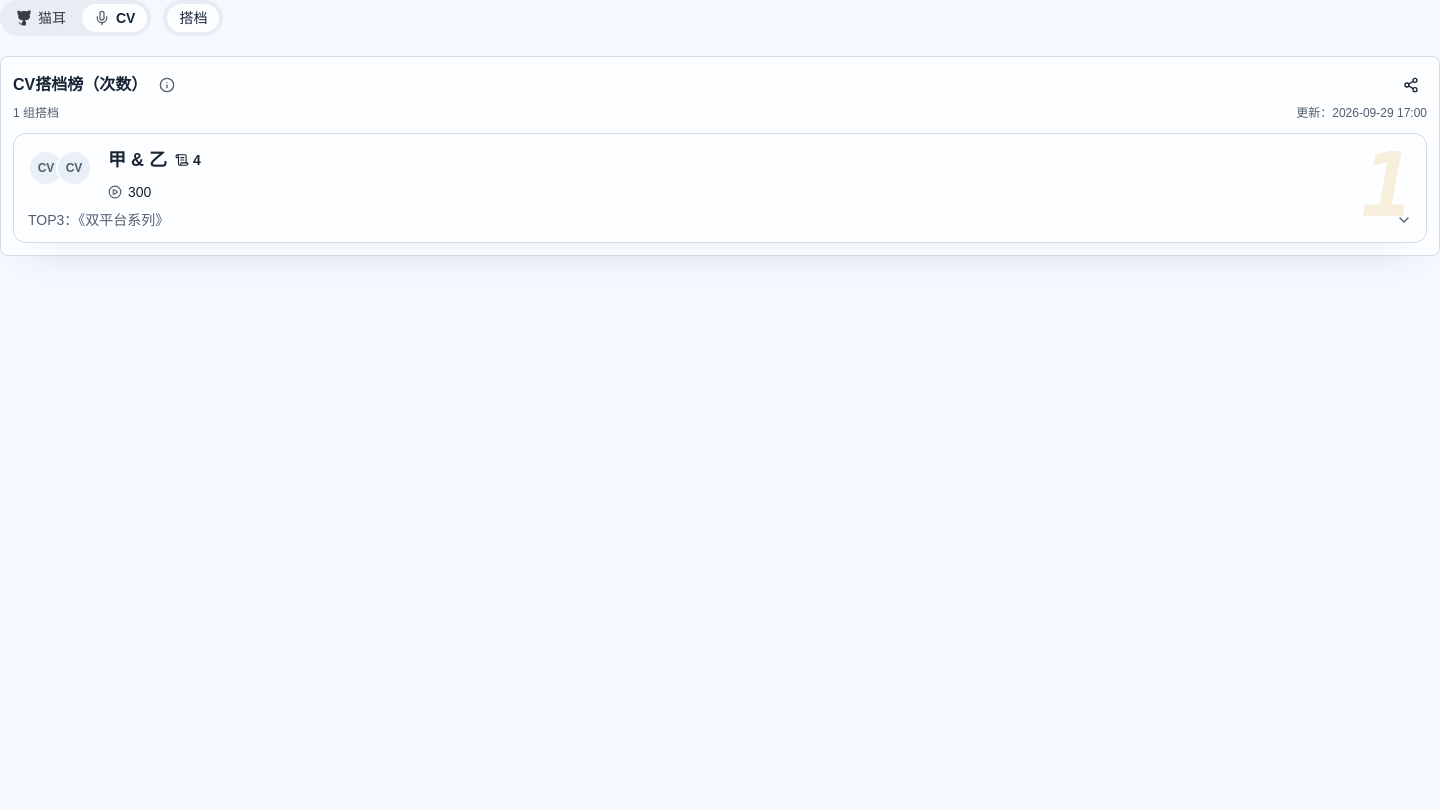
Test case: partner details keep platform identity when two releases share a drama ID
The image size is (1440, 810).
Expected: the heading "甲 & 乙" is shown, [108,146,167,174]
Expected: the element named "合作系列数: 4" reads "4", [175,150,201,170]
What coordinates should you click on to do the following:
click the button with aria-label "展开甲 & 乙作品列表"
I would click on:
 (99, 220)
Its box is [28,210,1412,230].
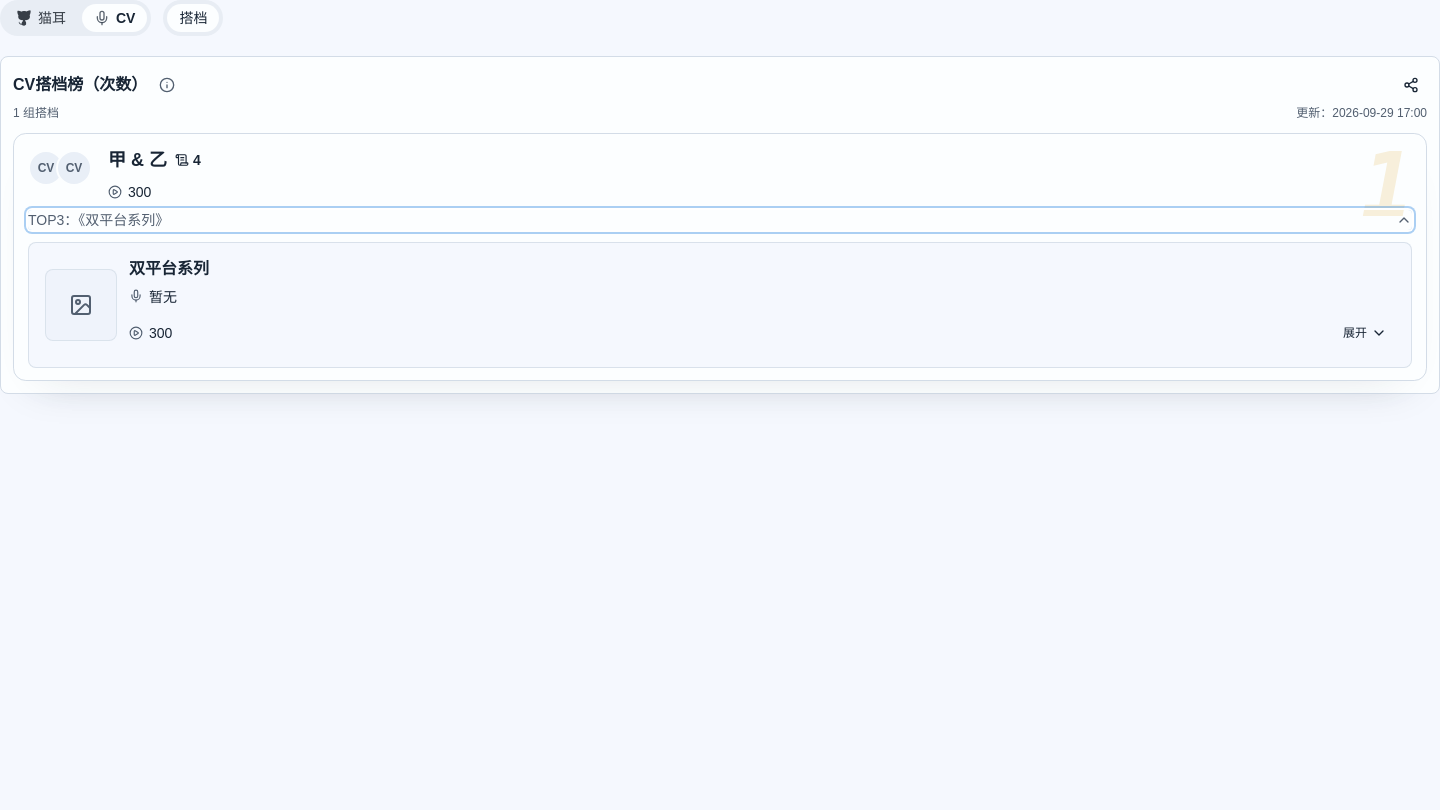
What coordinates should you click on to do the following:
click the button with aria-label "展开系列双平台系列"
I would click on:
 (1365, 333)
Its box is [1335,315,1395,351].
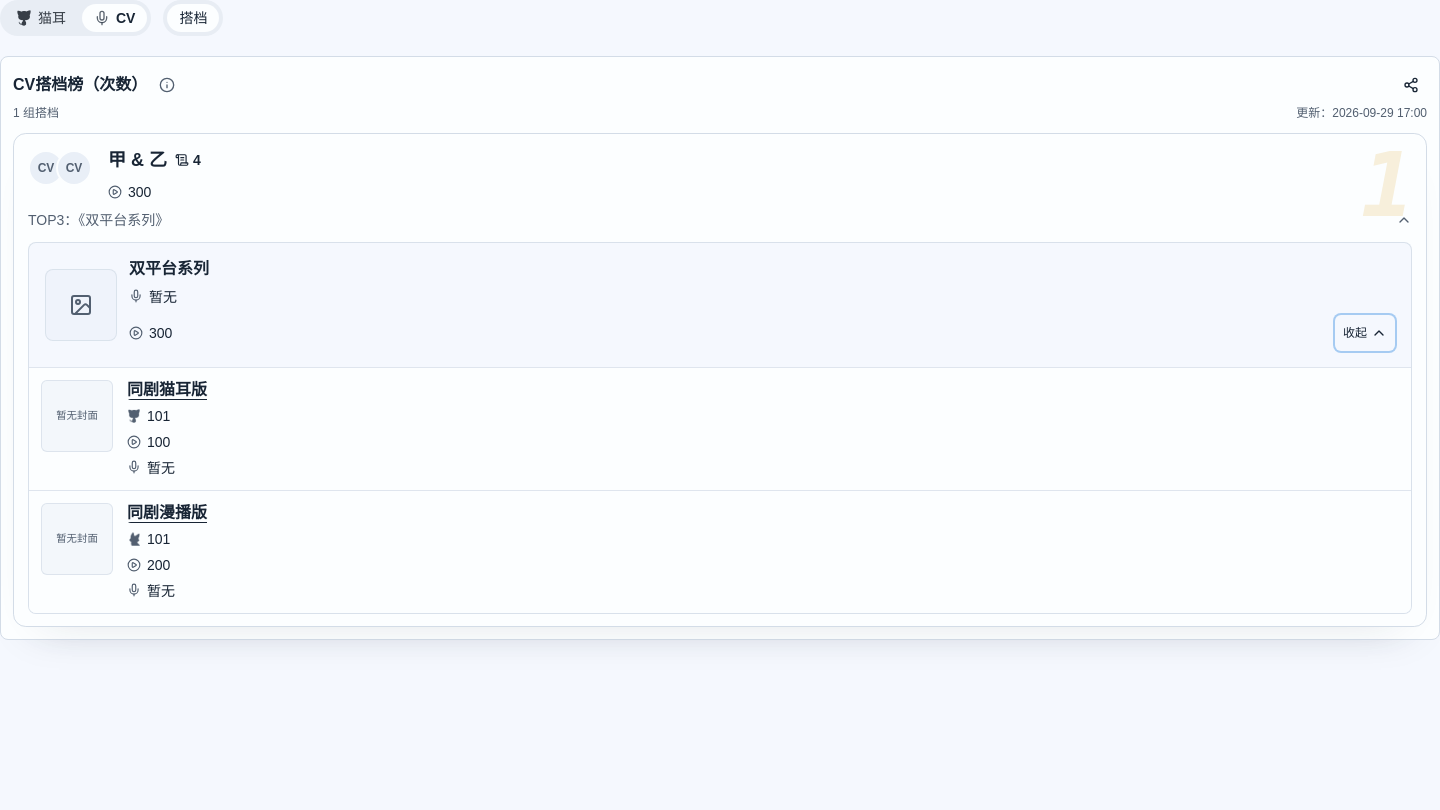
Expected: the text "101" is shown 2 times, [147,406,170,426]; [147,529,170,549]
What coordinates should you click on to do the following:
click the button "同剧猫耳版"
I would click on:
 (167, 390)
Its box is [127,380,1399,400].
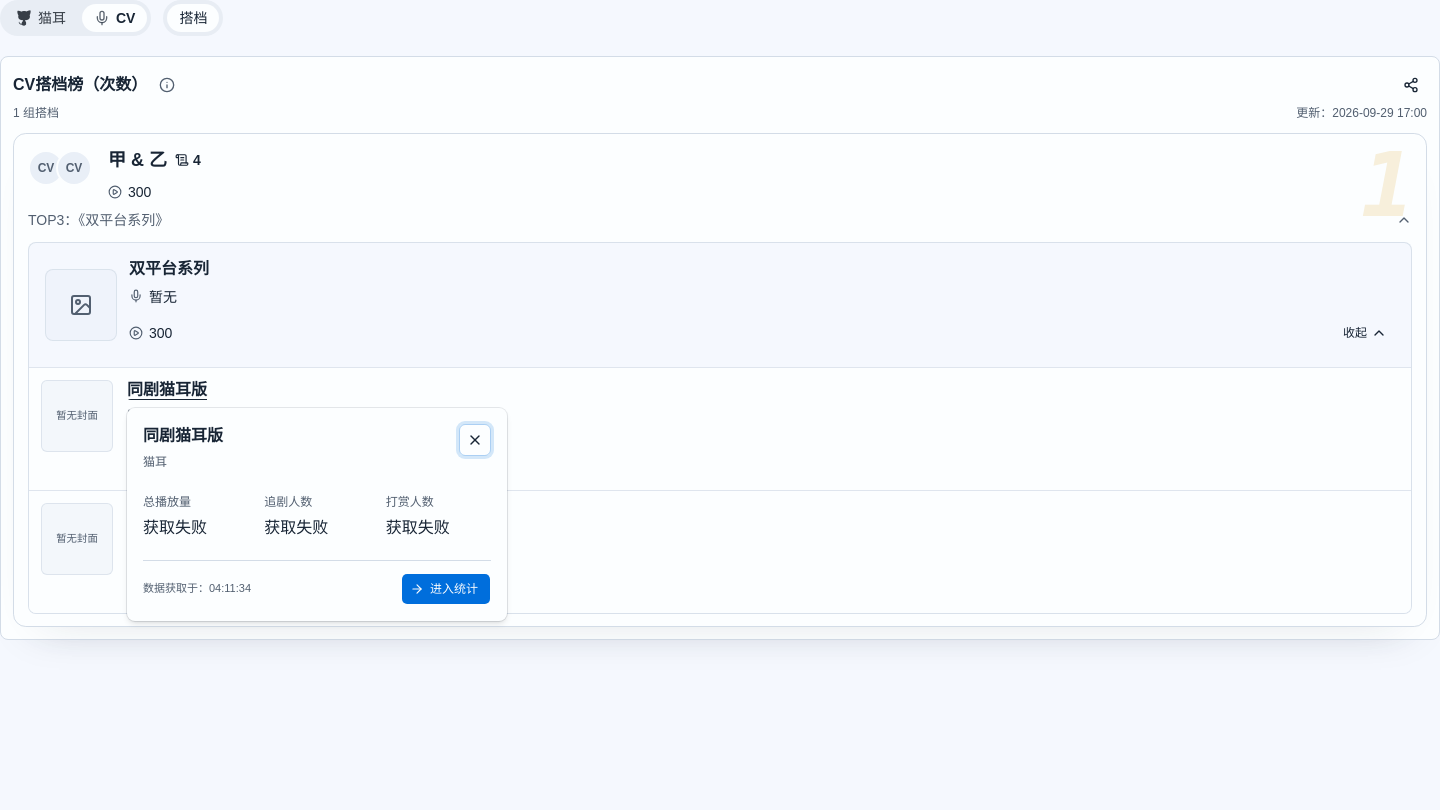
Expected: the dialog "同剧猫耳版" is shown, [127,408,507,621]
What coordinates should you click on to do the following:
click the button "进入统计"
I would click on:
 (446, 589)
Its box is [401,573,491,605].
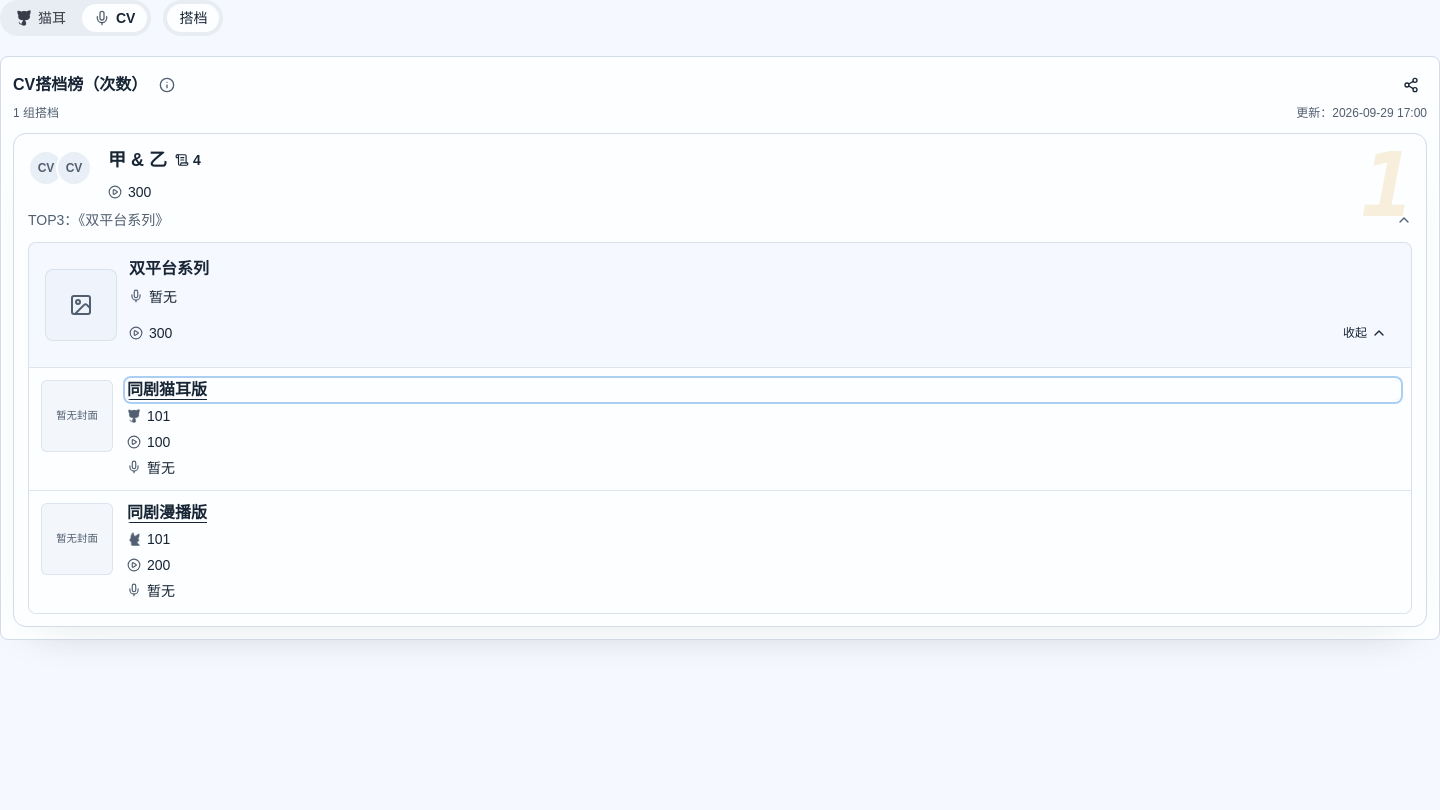
Expected: the dialog is gone
What coordinates should you click on to do the following:
click the button "同剧漫播版"
I would click on:
 (167, 512)
Its box is [127,503,1399,523].
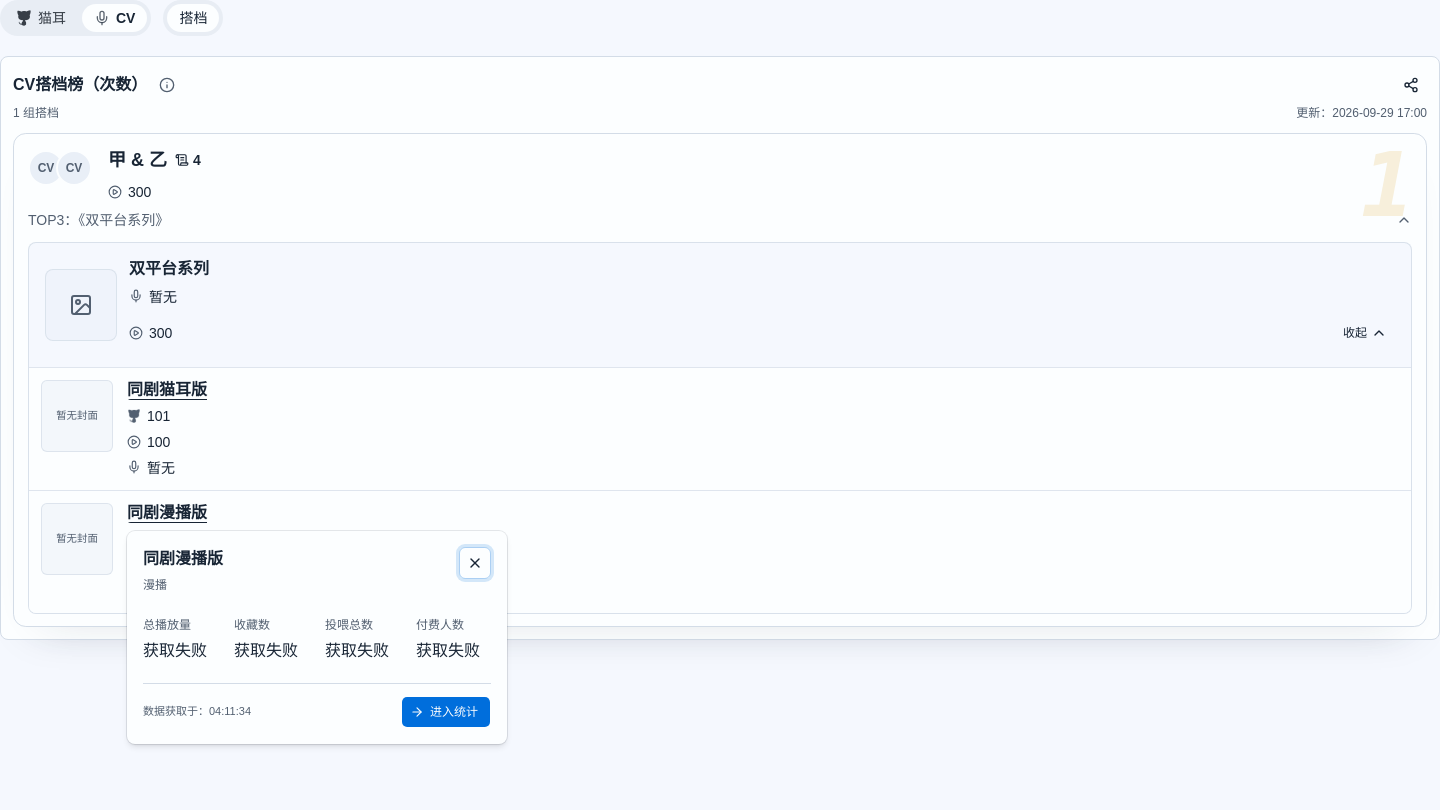
Expected: the dialog "同剧漫播版" is shown, [127,531,507,744]
What coordinates should you click on to do the following:
click the button "进入统计"
I would click on:
 (446, 712)
Its box is [401,696,491,728].
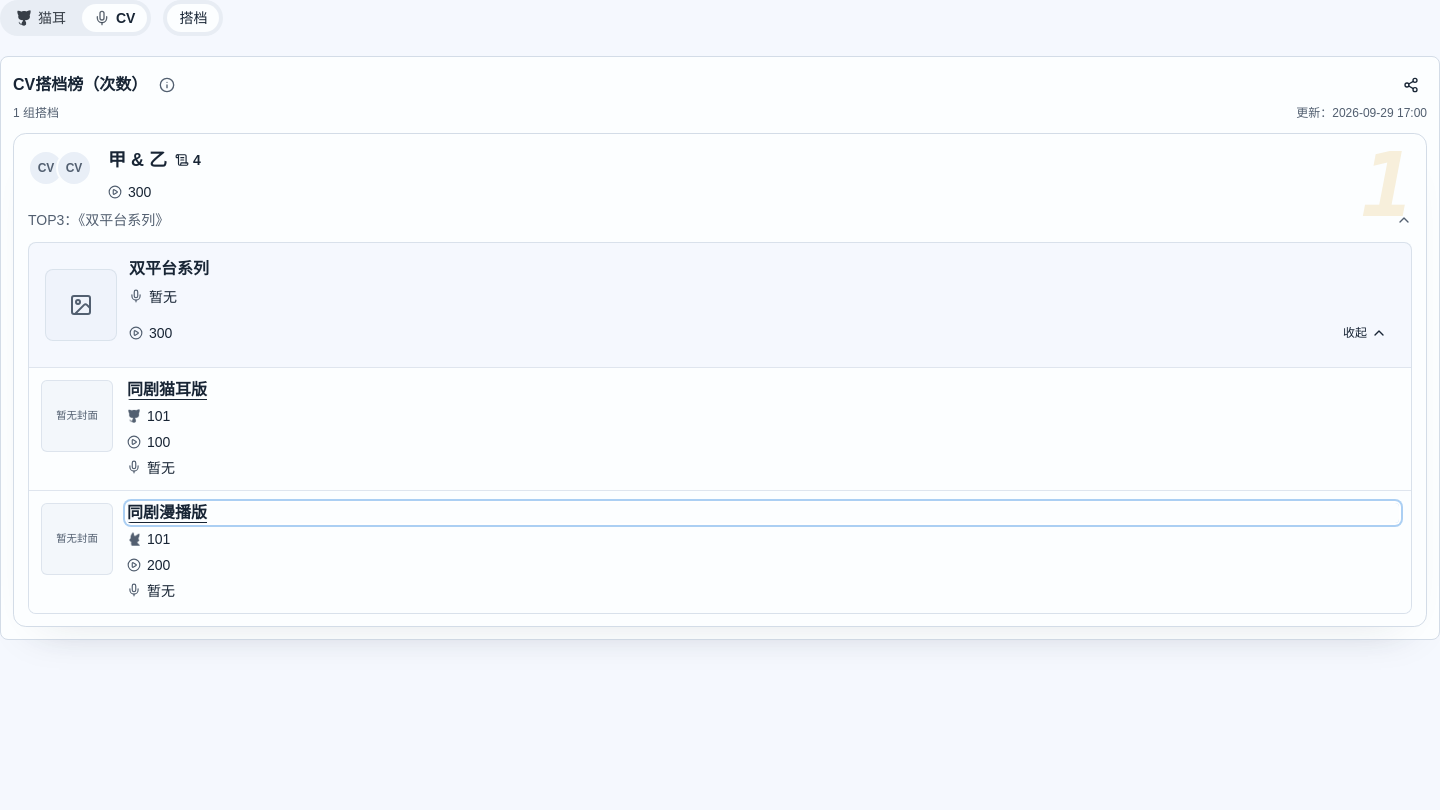
Expected: the dialog is gone
